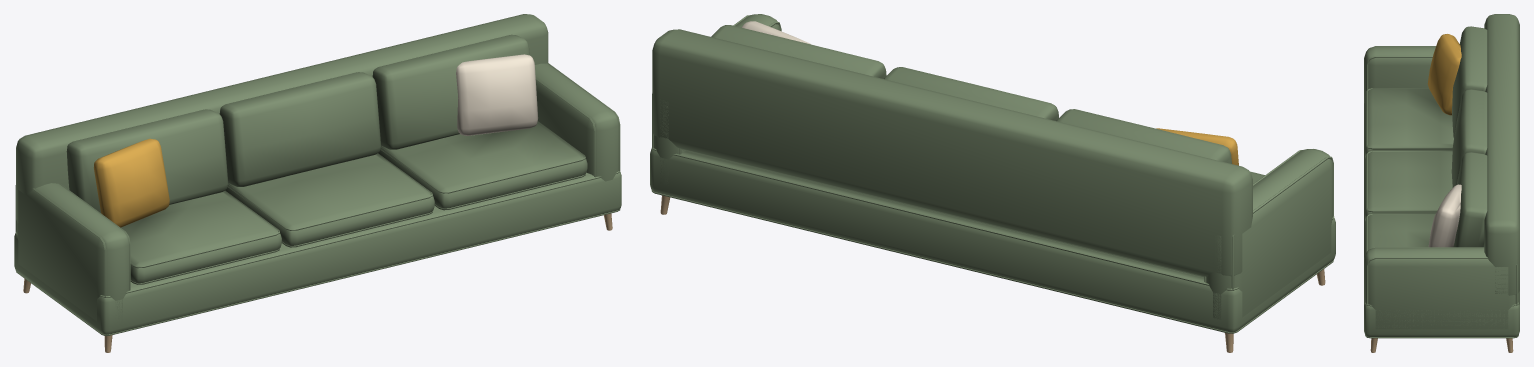
File: sofaThreeSeat.glb
3 renders of one model, left to right at view 1: azimuth 30°, elevation 25°; view 2: azimuth 150°, elevation 25°; view 3: azimuth 270°, elevation 25°, orthographic. The views are drawn at different scales.
Visible parts, largest first — view 1: sofa, seat; view 2: sofa; view 3: sofa, seat.
Part boxes in pixels (bbox=[...]): sofa: bbox=[14, 14, 621, 352]; seat: bbox=[121, 121, 587, 284]; sofa: bbox=[650, 14, 1335, 352]; sofa: bbox=[1364, 14, 1519, 352]; seat: bbox=[1365, 88, 1453, 255].
Bounding box in the file's own units: 2.86 × 0.823 × 0.88.
